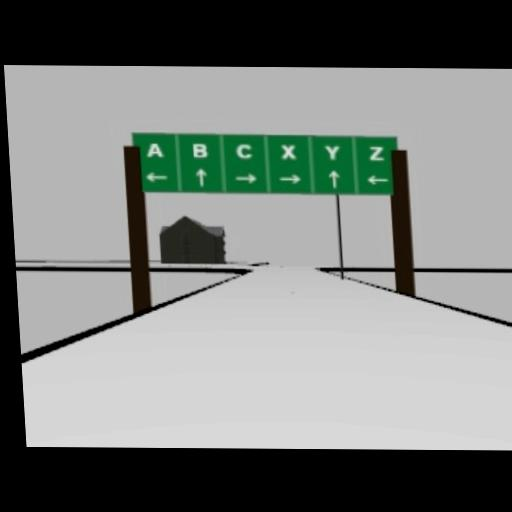A: (144, 142, 163, 157)
B: (191, 142, 207, 157)
C: (235, 143, 252, 159)
Left: (143, 171, 168, 181), (365, 175, 388, 185)
Right: (234, 172, 257, 183), (278, 174, 301, 184)
Straight: (194, 167, 206, 186), (327, 169, 339, 187)
X: (280, 143, 296, 159)
Y: (324, 145, 340, 160)
Z: (368, 145, 384, 160)
